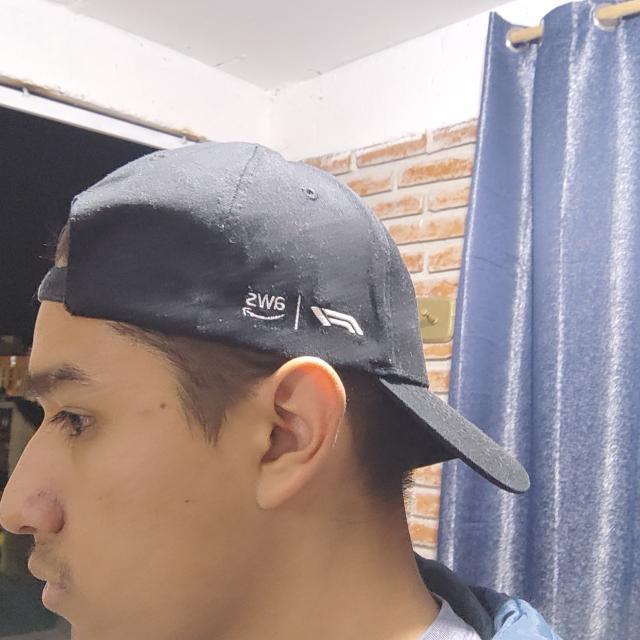ear: (249, 356, 346, 510)
